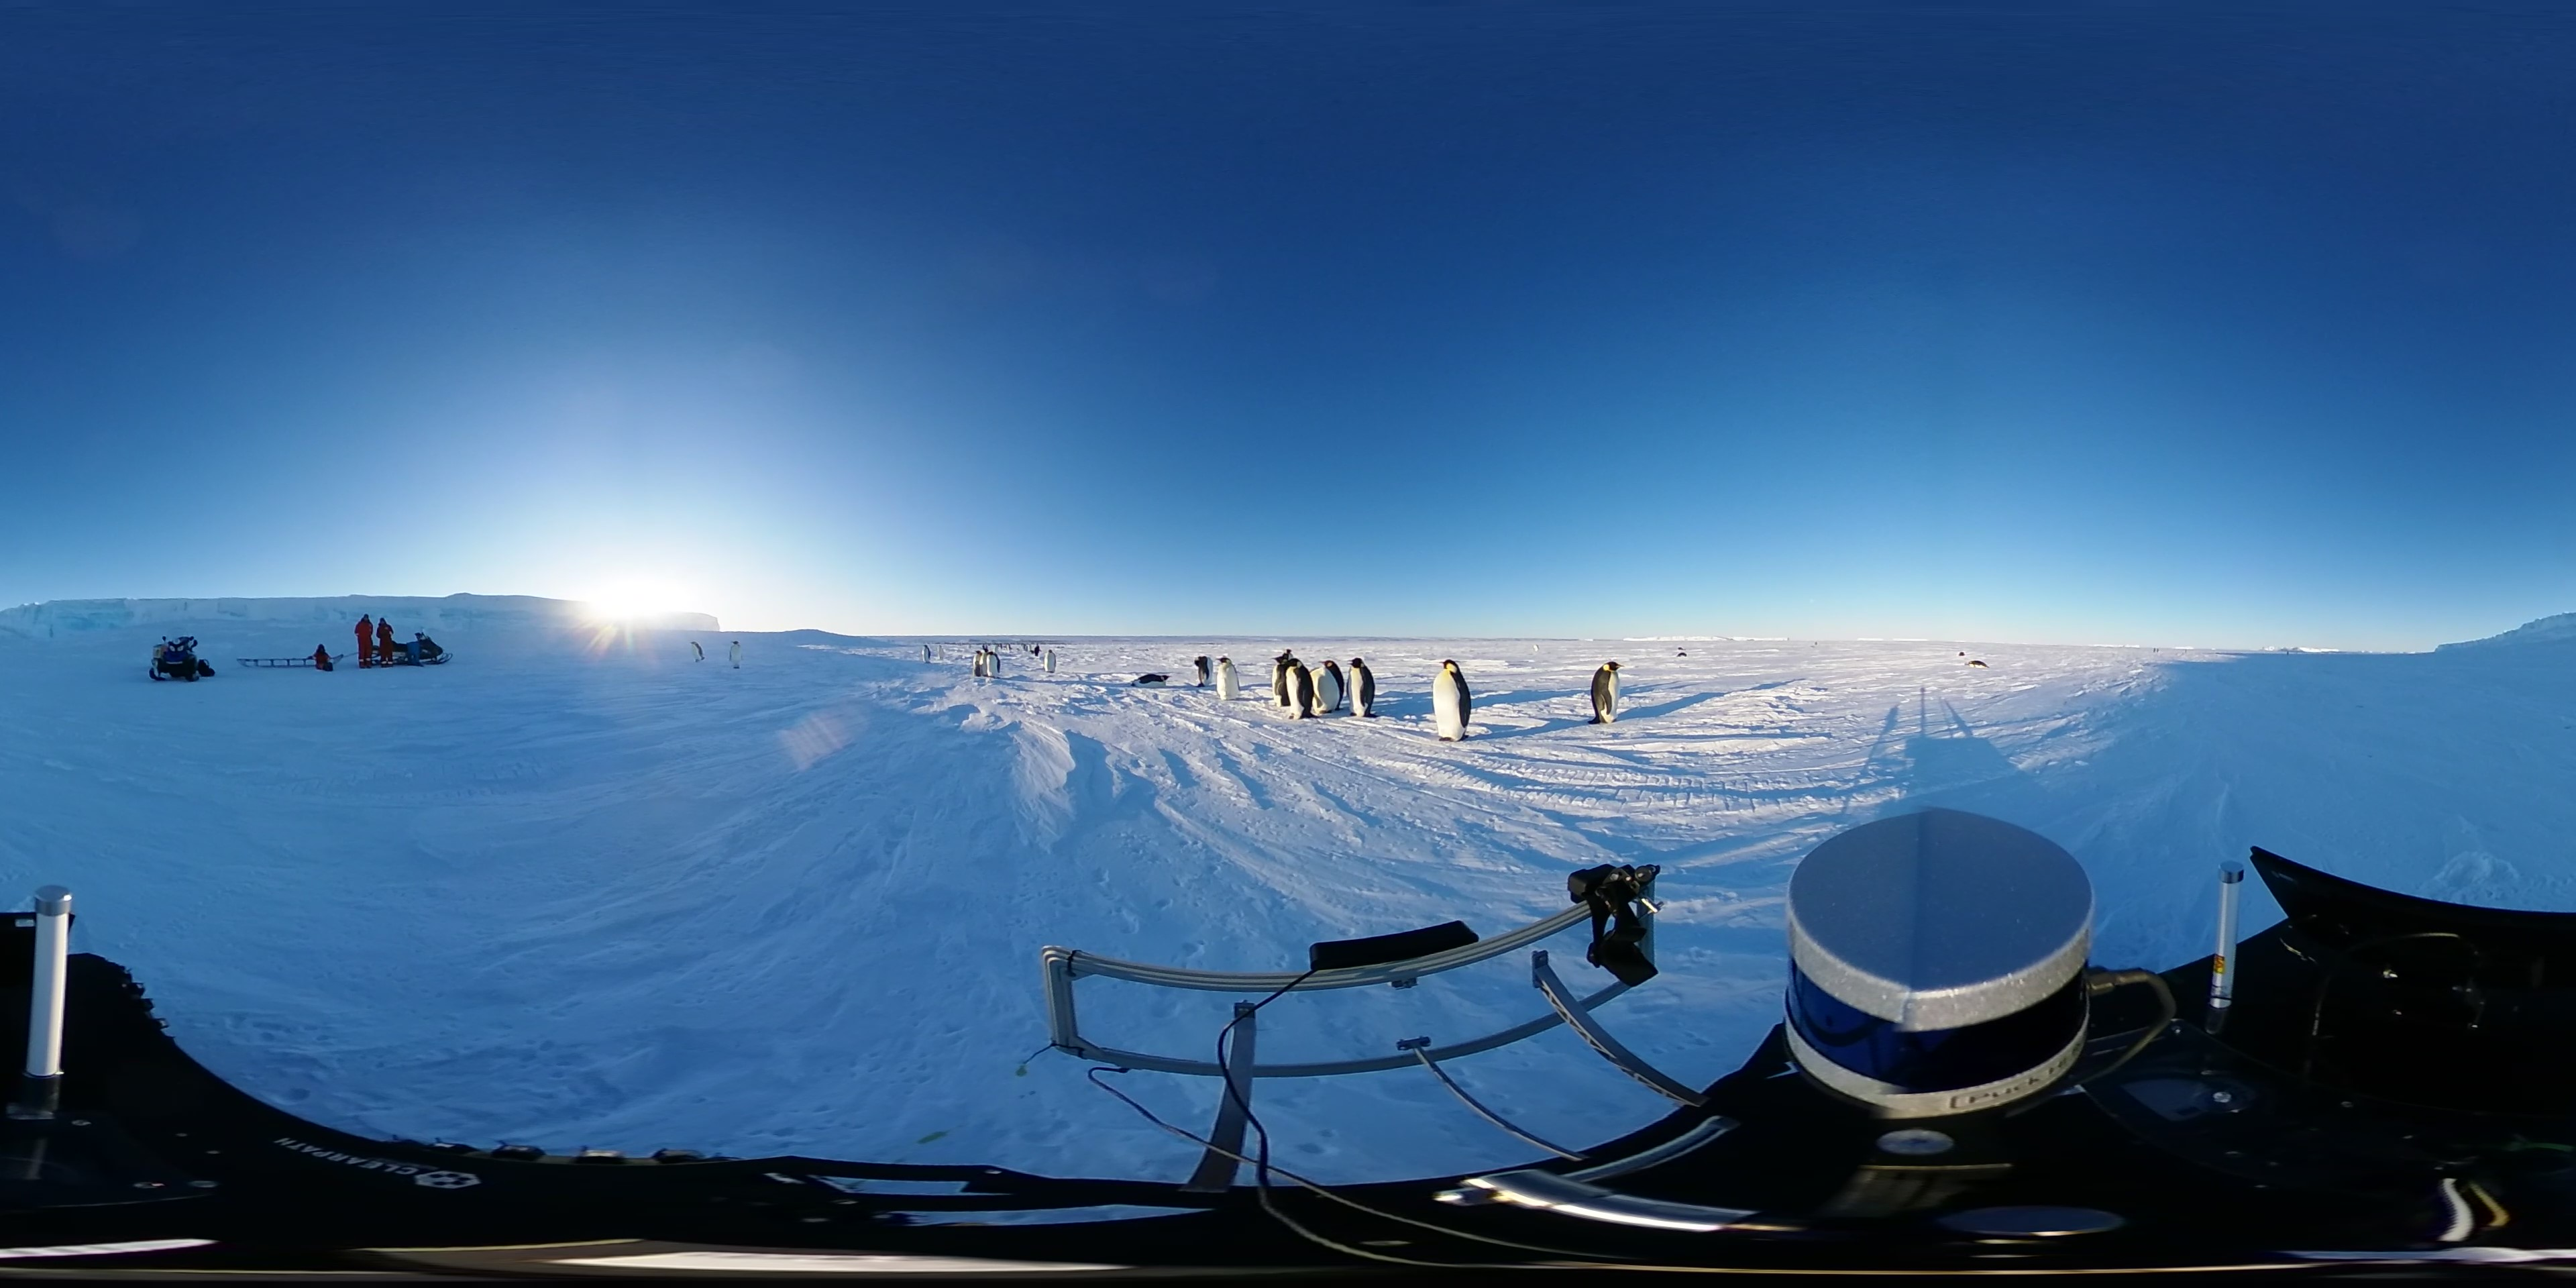adult_standing_penguin: (1434, 657, 1472, 749), (1584, 657, 1630, 729), (1342, 657, 1382, 724), (1285, 657, 1321, 723), (1216, 654, 1244, 705), (1188, 654, 1214, 692)
adult_toboggan_penguin: (1127, 670, 1176, 693)
researcher: (371, 614, 399, 672), (355, 611, 376, 672), (307, 641, 337, 674)
